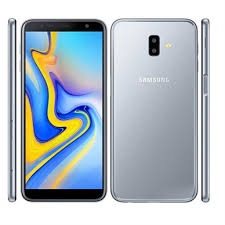samsung: (109, 16, 201, 202), (21, 16, 109, 202)
